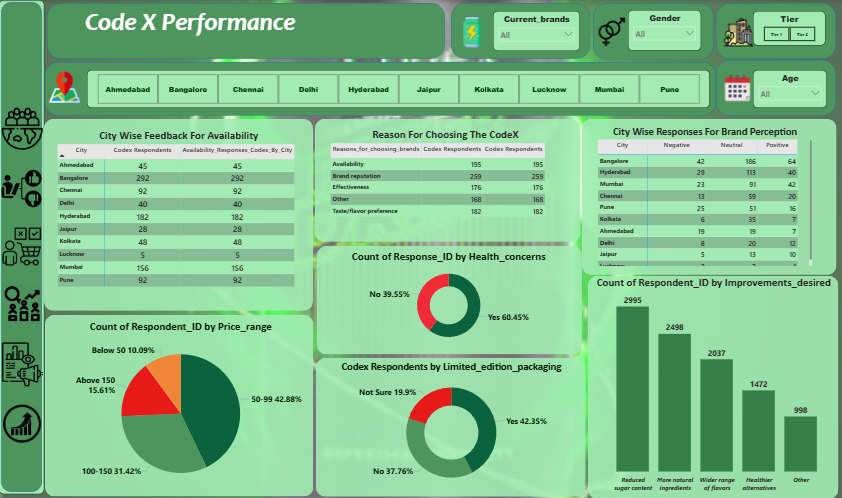

The page's visual inventory and layout, read from the dashboard file:
{"tool":"powerbi","page":{"name":"CodeX Performance","canvas":[2450,1450],"ordinal":5},"visuals":[{"type":"shape","box":[140,8,1154,162],"z":0},{"type":"shape","box":[132,180,1946,156],"z":1000},{"type":"shape","box":[0,0,130.5,1432.6],"z":2000},{"type":"shape","box":[1724,10,350,164],"z":3000},{"type":"shape","box":[1312,10,404,162],"z":4000},{"type":"shape","box":[2080,8,348,162],"z":5000},{"type":"shape","box":[2080,174,348,162],"z":6000},{"type":"shape","box":[130,344,780,556],"z":7000},{"type":"shape","box":[132,914,778,526],"z":8000},{"type":"shape","box":[1690,344,738,452],"z":9000},{"type":"shape","box":[920,1038,782,402],"z":10000},{"type":"shape","box":[1708,800,726,646],"z":11000},{"type":"columnChart","fields":{"Category":["fact_survey_responses.Improvements_desired"],"Y":["CountNonNull(dim_repondents.Respondent_ID)"]},"box":[1716,800,712,632],"z":12000},{"type":"shape","box":[916,346,770,356],"z":13000},{"type":"slicer","fields":{"Values":["dim_cities.City"]},"box":[254,202,1806,110],"z":14000},{"type":"slicer","title":"Age","fields":{"Values":["dim_repondents.Age"]},"box":[2188,202,214,110],"z":15000},{"type":"slicer","title":"Tier","fields":{"Values":["dim_cities.Tier"]},"box":[2188,32,210,100],"z":16000},{"type":"slicer","title":"Gender","fields":{"Values":["dim_repondents.Gender"]},"box":[1824,30,212,118],"z":17000},{"type":"shape","box":[922,712,768,314],"z":18000},{"type":"slicer","title":"Current_brands","fields":{"Values":["fact_survey_responses.Current_brands"]},"box":[1434,32,252,116],"z":19000},{"type":"textbox","box":[177.5,12.5,755,120],"z":20000},{"type":"donutChart","fields":{"Y":["CountNonNull(fact_survey_responses.Response_ID)"],"Category":["fact_survey_responses.Health_concerns"]},"box":[922,726,764,282],"z":21000},{"type":"pivotTable","title":"City Wise Responses For Brand Perception","fields":{"Rows":["dim_cities.City"],"Columns":["fact_survey_responses.Brand_perception"],"Values":["dim_repondents.Codex Respondents"]},"box":[1732,362,632,414],"z":22000},{"type":"donutChart","fields":{"Y":["dim_repondents.Codex Respondents"],"Category":["fact_survey_responses.Limited_edition_packaging"]},"box":[934,1044,756,384],"z":23000},{"type":"pieChart","fields":{"Y":["CountNonNull(dim_repondents.Respondent_ID)"],"Category":["fact_survey_responses.Price_range"]},"box":[140,928,776,504],"z":24000},{"type":"pivotTable","title":"Reason For Choosing  The CodeX","fields":{"Rows":["fact_survey_responses.Reasons_for_choosing_brands"],"Values":["dim_repondents.Codex Respondents","dim_repondents.Codex Respondents"]},"box":[956,372,676,308],"z":25000},{"type":"pivotTable","title":"City Wise Feedback For Availability","fields":{"Rows":["dim_cities.City"],"Values":["dim_repondents.Codex Respondents","fact_survey_responses.Availability_Responses_Codex"]},"box":[164,374,712,484],"z":26000},{"type":"image","box":[0,817.6,134.4,126],"z":27000},{"type":"image","box":[2.8,1167.6,128.8,120.4],"z":28000},{"type":"image","box":[1322,42,98,106],"z":29000},{"type":"image","box":[2098,40,96,104],"z":30000},{"type":"image","box":[1732,46,92,92],"z":31000},{"type":"image","box":[2098,210,90,94],"z":32000},{"type":"image","box":[138,202,102,100],"z":33000},{"type":"image","box":[2.8,308,128.8,131.6],"z":34000},{"type":"image","box":[0,481.4,130.5,130.5],"z":35000},{"type":"image","box":[0,652.5,130.5,124.7],"z":36000},{"type":"image","box":[0,985.6,137.2,140],"z":37000}]}

Visuals, with their boxes in screenshot pixels (x1, y1, x2, y2), scaled from the page's 2450x1450 canvas onto the 842x498 screenshot:
shape: (48,3,445,58)
shape: (45,62,714,115)
shape: (0,0,45,492)
shape: (592,3,713,60)
shape: (451,3,590,59)
shape: (715,3,834,58)
shape: (715,60,834,115)
shape: (45,118,313,309)
shape: (45,314,313,495)
shape: (581,118,834,273)
shape: (316,356,585,495)
shape: (587,275,837,497)
columnChart - fact_survey_responses.Improvements_desired x CountNonNull(dim_repondents.Respondent_ID): (590,275,834,492)
shape: (315,119,579,241)
slicer - dim_cities.City: (87,69,708,107)
"Age" slicer: (752,69,826,107)
"Tier" slicer: (752,11,824,45)
"Gender" slicer: (627,10,700,51)
shape: (317,245,581,352)
"Current_brands" slicer: (493,11,579,51)
textbox: (61,4,320,46)
donutChart - CountNonNull(fact_survey_responses.Response_ID) x fact_survey_responses.Health_concerns: (317,249,579,346)
"City Wise Responses For Brand Perception" pivotTable: (595,124,812,267)
donutChart - dim_repondents.Codex Respondents x fact_survey_responses.Limited_edition_packaging: (321,359,581,490)
pieChart - CountNonNull(dim_repondents.Respondent_ID) x fact_survey_responses.Price_range: (48,319,315,492)
"Reason For Choosing  The CodeX" pivotTable: (329,128,561,234)
"City Wise Feedback For Availability" pivotTable: (56,128,301,295)
image: (0,281,46,324)
image: (1,401,45,442)
image: (454,14,488,51)
image: (721,14,754,49)
image: (595,16,627,47)
image: (721,72,752,104)
image: (47,69,82,104)
image: (1,106,45,151)
image: (0,165,45,210)
image: (0,224,45,267)
image: (0,339,47,387)
